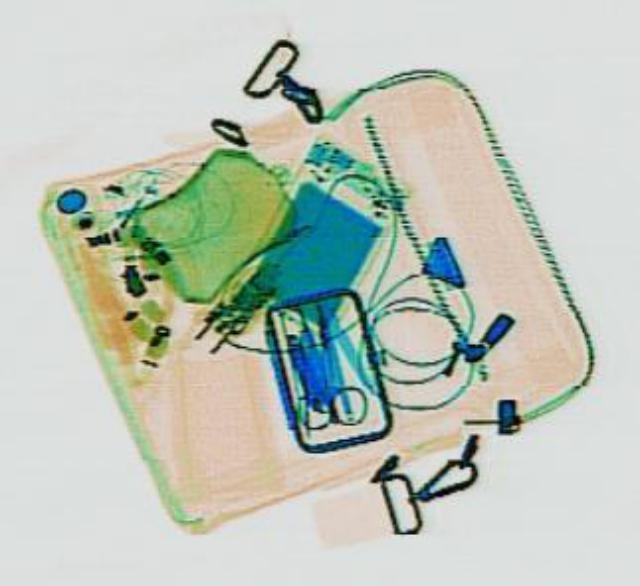Scissors: (277, 299, 368, 428)
